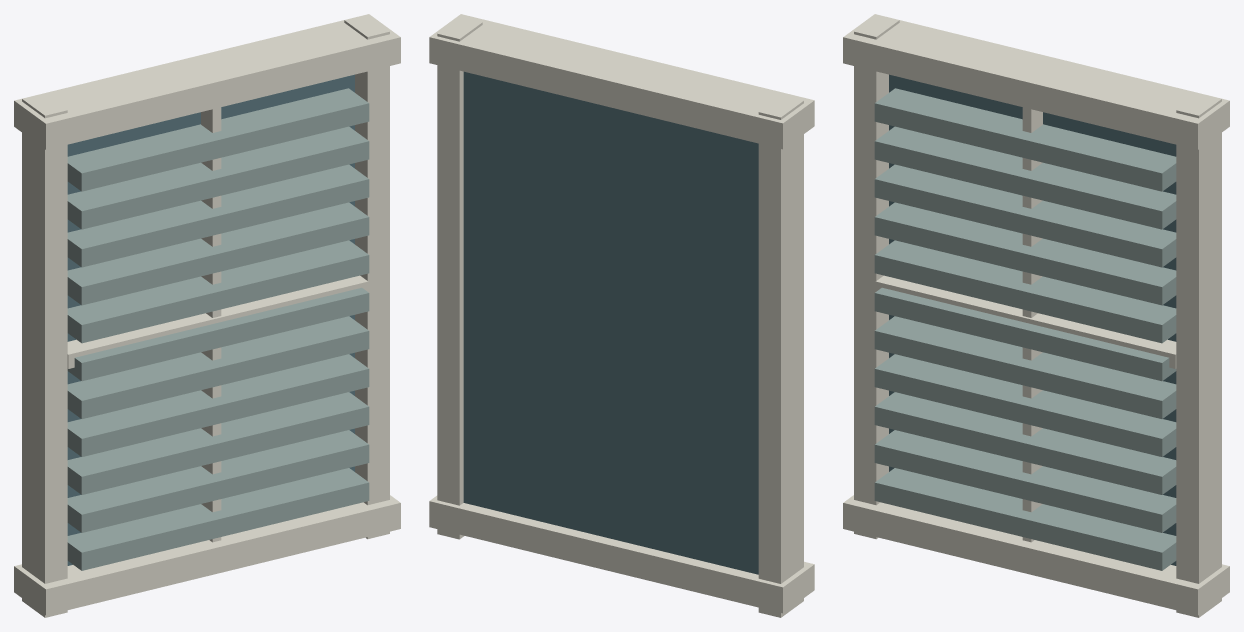
The picture shows the model from 3 angles, left to right: view 1: azimuth 30°, elevation 25°; view 2: azimuth 150°, elevation 25°; view 3: azimuth 330°, elevation 25°; orthographic projection.
Parts seen in each view (by area): view 1: QH-A0072_V02_geometry; view 2: QH-A0072_V02_geometry; view 3: QH-A0072_V02_geometry.
Boxes of the visible parts, box(x1,y1,x2,y2) form: QH-A0072_V02_geometry: box(14, 14, 400, 617); QH-A0072_V02_geometry: box(429, 14, 814, 617); QH-A0072_V02_geometry: box(843, 14, 1229, 617).
Size of the model in its own units: 1.42 by 1.92 by 0.235.
